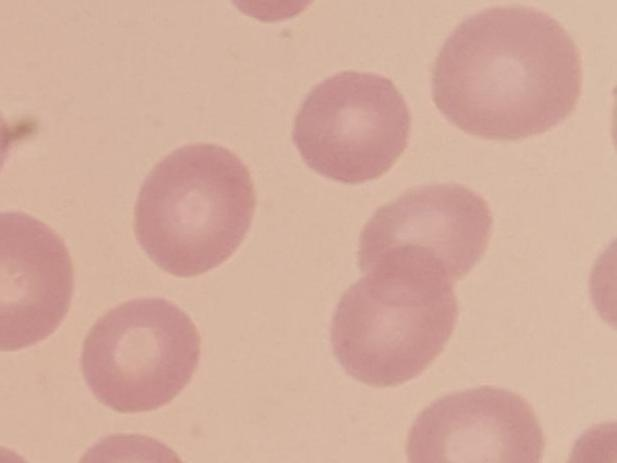Uninfected: (430, 8, 580, 144), (330, 250, 459, 388), (134, 140, 252, 278), (359, 188, 490, 303), (79, 298, 200, 415), (296, 68, 412, 189), (0, 210, 75, 353), (405, 388, 543, 463)
